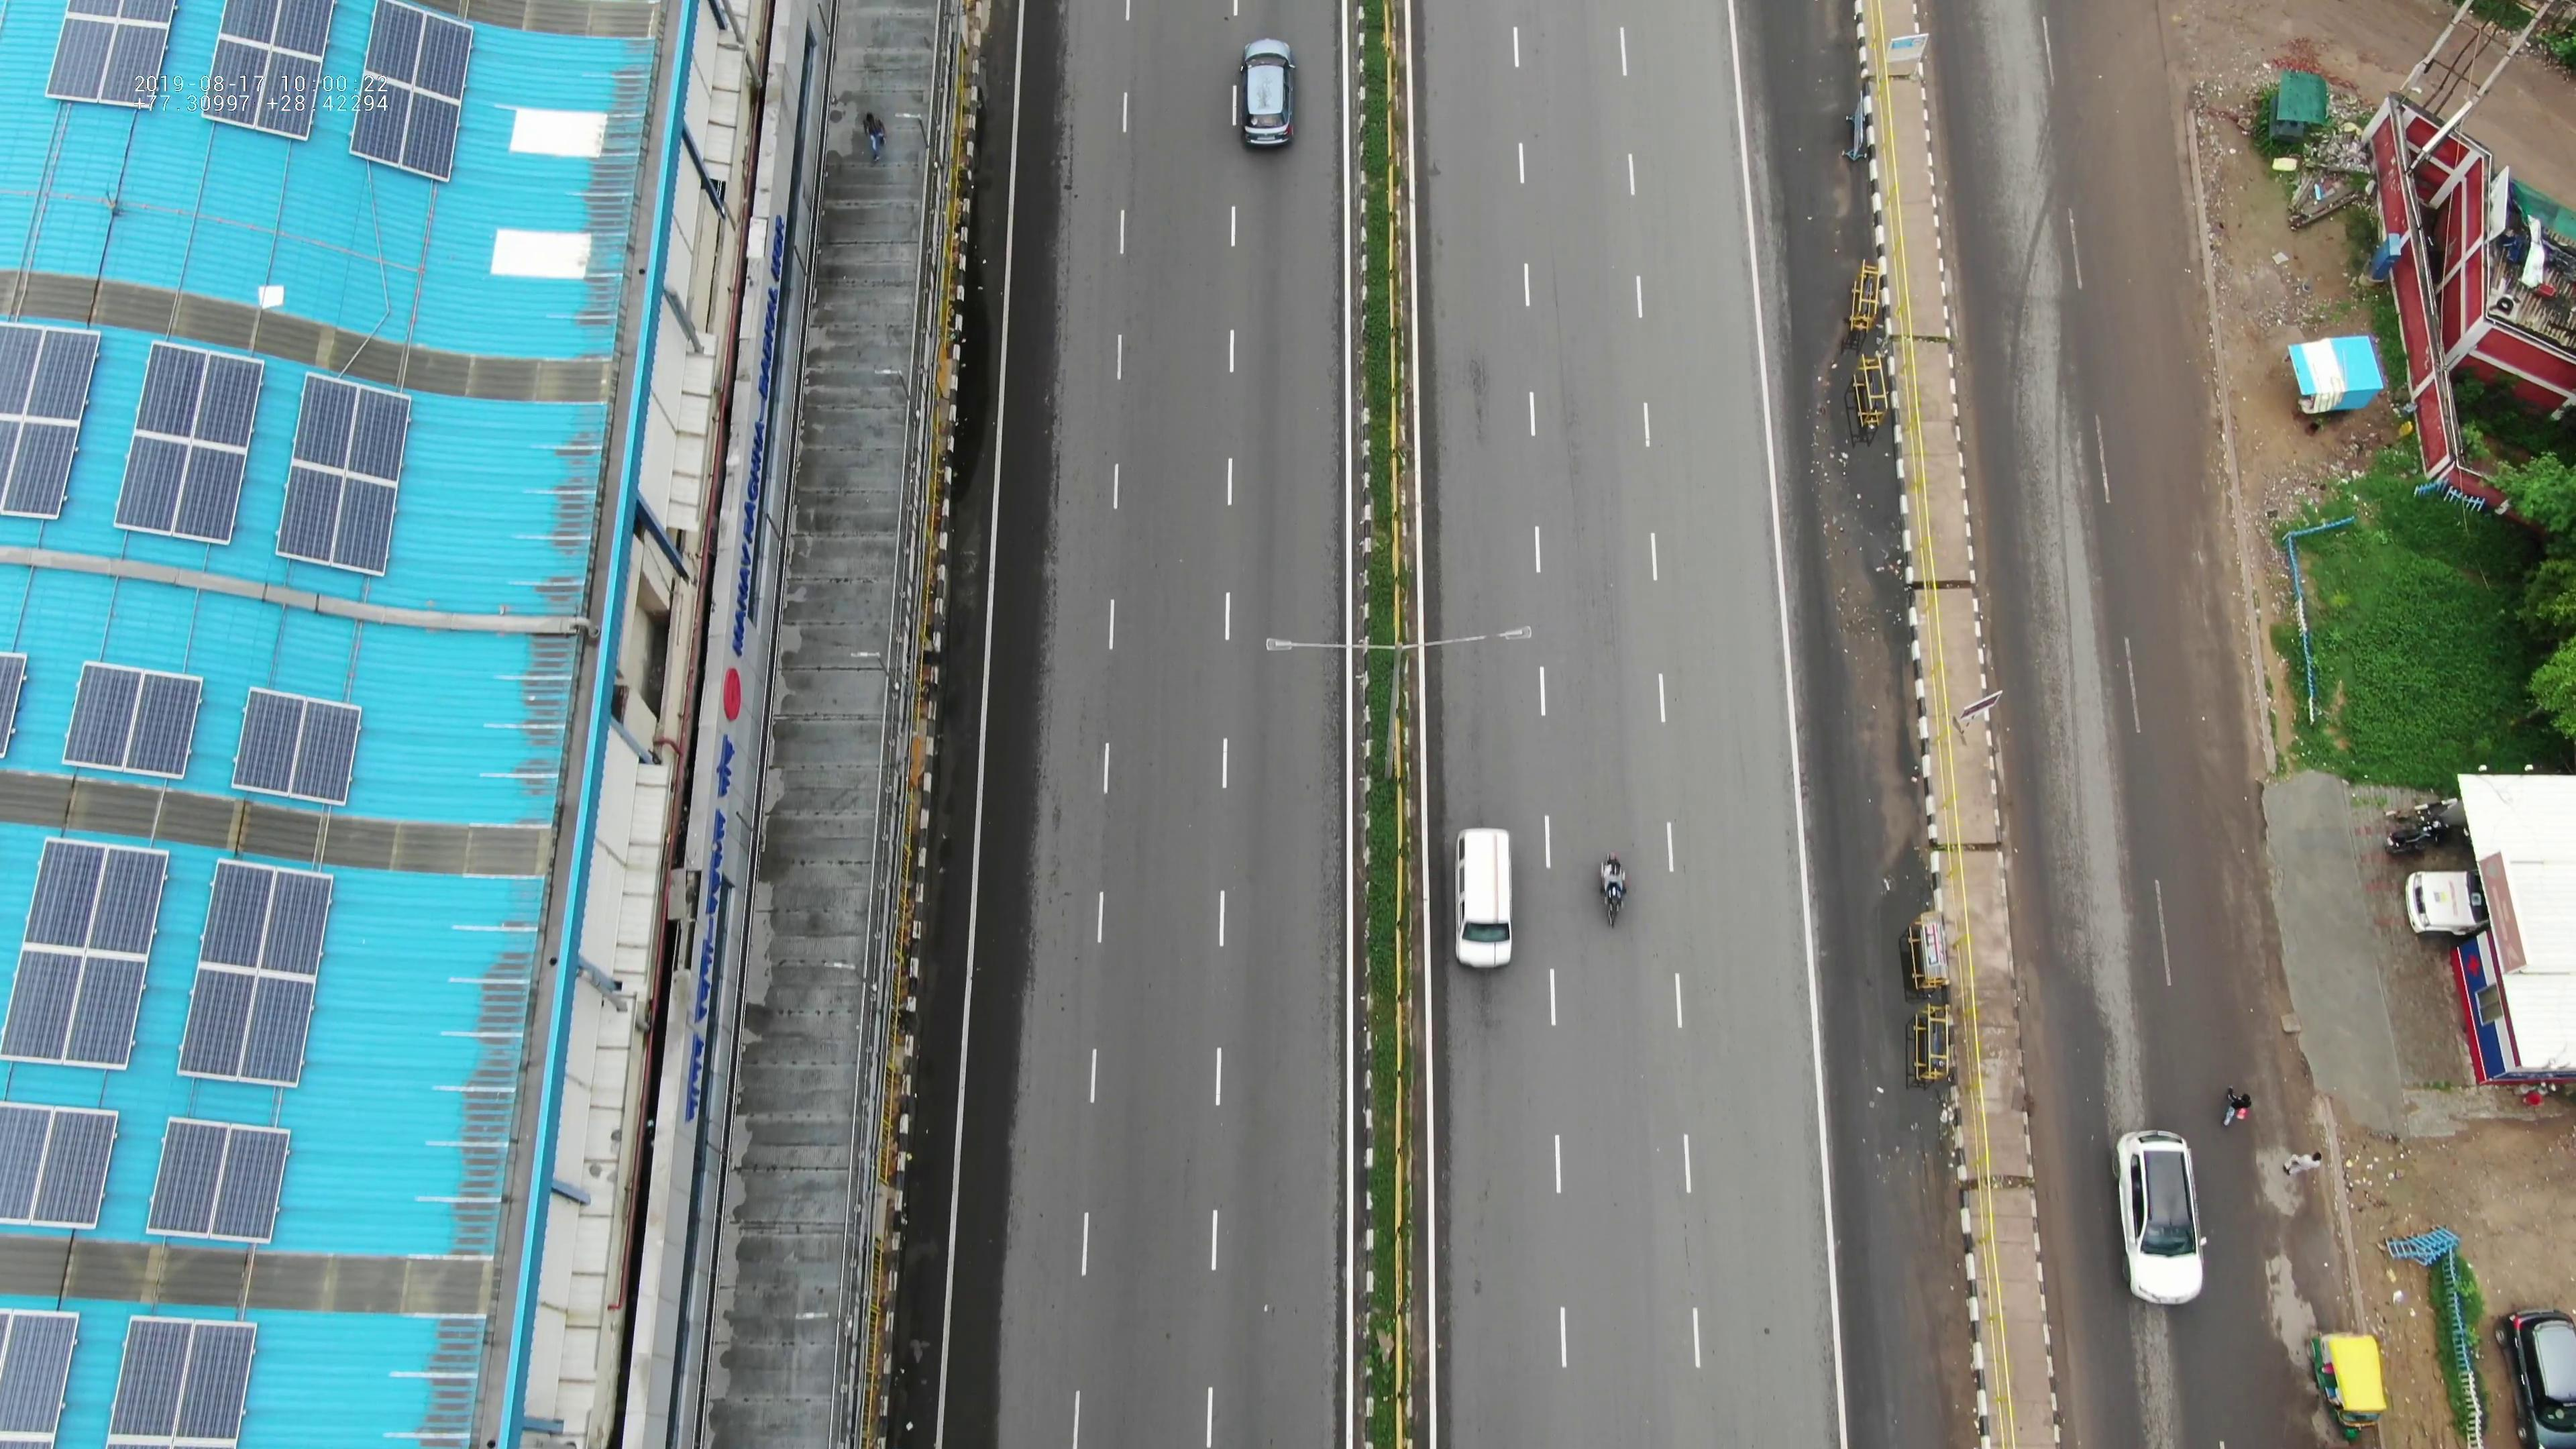Muddy_road: (2075, 71, 2212, 441), (2127, 487, 2259, 775), (1909, 1187, 1974, 1442)
Waterlogging: (1812, 359, 1916, 635), (1872, 881, 1946, 1108), (950, 255, 1000, 494)
